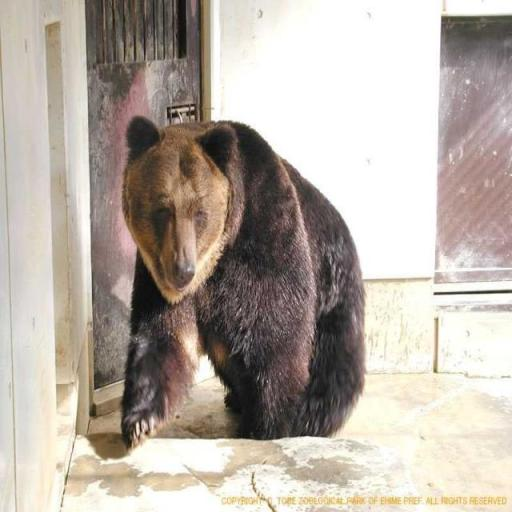Bear: (119, 114, 367, 450)
